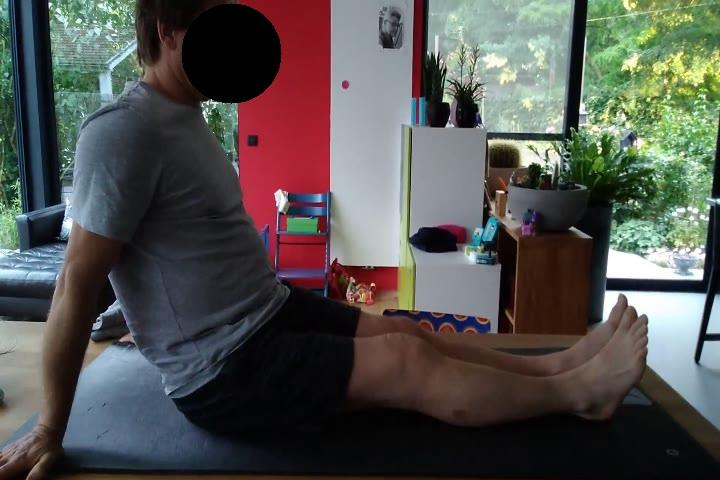lower_body: (182, 291, 652, 435)
